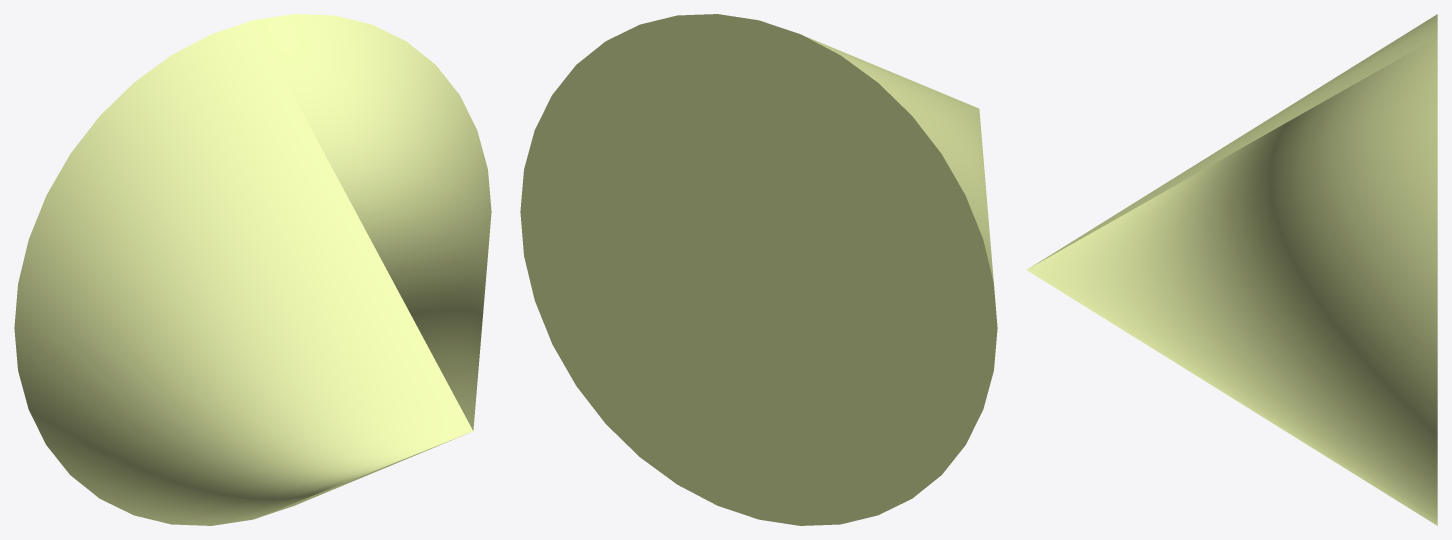
Rendered from ClosedCone.obj.
3 views of the same model, side by side, from view 1: azimuth 30°, elevation 25°; view 2: azimuth 150°, elevation 25°; view 3: azimuth 270°, elevation 25° (orthographic). The views are drawn at different scales.
Visible parts, largest first — view 1: ClosedCone.wrl/Compound/Compound/Compound/Compound/Face; view 2: ClosedCone.wrl/Compound/Compound/Compound/Compound/Face; view 3: ClosedCone.wrl/Compound/Compound/Compound/Compound/Face.
Boxes of the visible parts, x1,y1,x2,y2 form: ClosedCone.wrl/Compound/Compound/Compound/Compound/Face: [14, 14, 491, 525]; ClosedCone.wrl/Compound/Compound/Compound/Compound/Face: [520, 14, 997, 525]; ClosedCone.wrl/Compound/Compound/Compound/Compound/Face: [1027, 14, 1437, 525].
Size of the model in its own units: 100 by 100 by 80.
